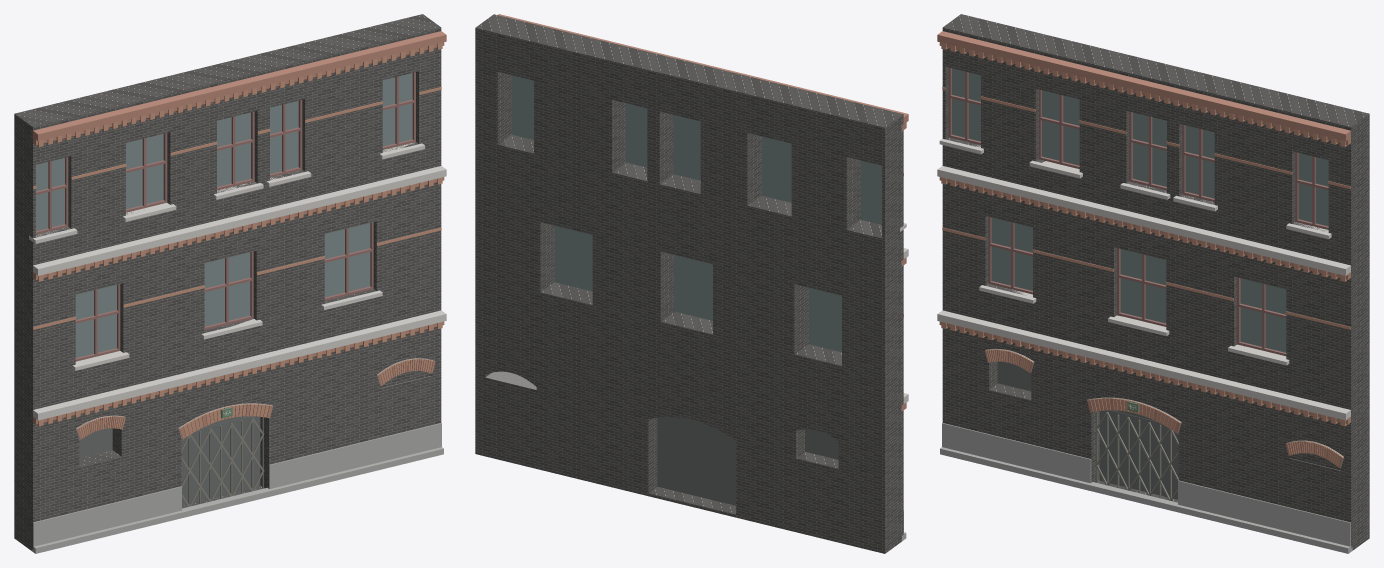
File: huangpu-zili-waterworks-office-front-raw.glb
The picture shows the model from 3 angles, left to right: view 1: azimuth 30°, elevation 25°; view 2: azimuth 150°, elevation 25°; view 3: azimuth 330°, elevation 25°; orthographic projection.
Visible parts, largest first — view 1: 自力大楼（英商自来水公司办公楼）江西中路464号券门及上层窗墙; view 2: 自力大楼（英商自来水公司办公楼）江西中路464号券门及上层窗墙; view 3: 自力大楼（英商自来水公司办公楼）江西中路464号券门及上层窗墙.
Boxes of the visible parts, x1=… form: 自力大楼（英商自来水公司办公楼）江西中路464号券门及上层窗墙: x1=14, y1=14, x2=446, y2=553; 自力大楼（英商自来水公司办公楼）江西中路464号券门及上层窗墙: x1=475, y1=14, x2=908, y2=553; 自力大楼（英商自来水公司办公楼）江西中路464号券门及上层窗墙: x1=937, y1=14, x2=1369, y2=553.
Bounding box in the file's own units: 11.33 × 11.25 × 1.13.
Materials: 12 (1 with a texture image).
